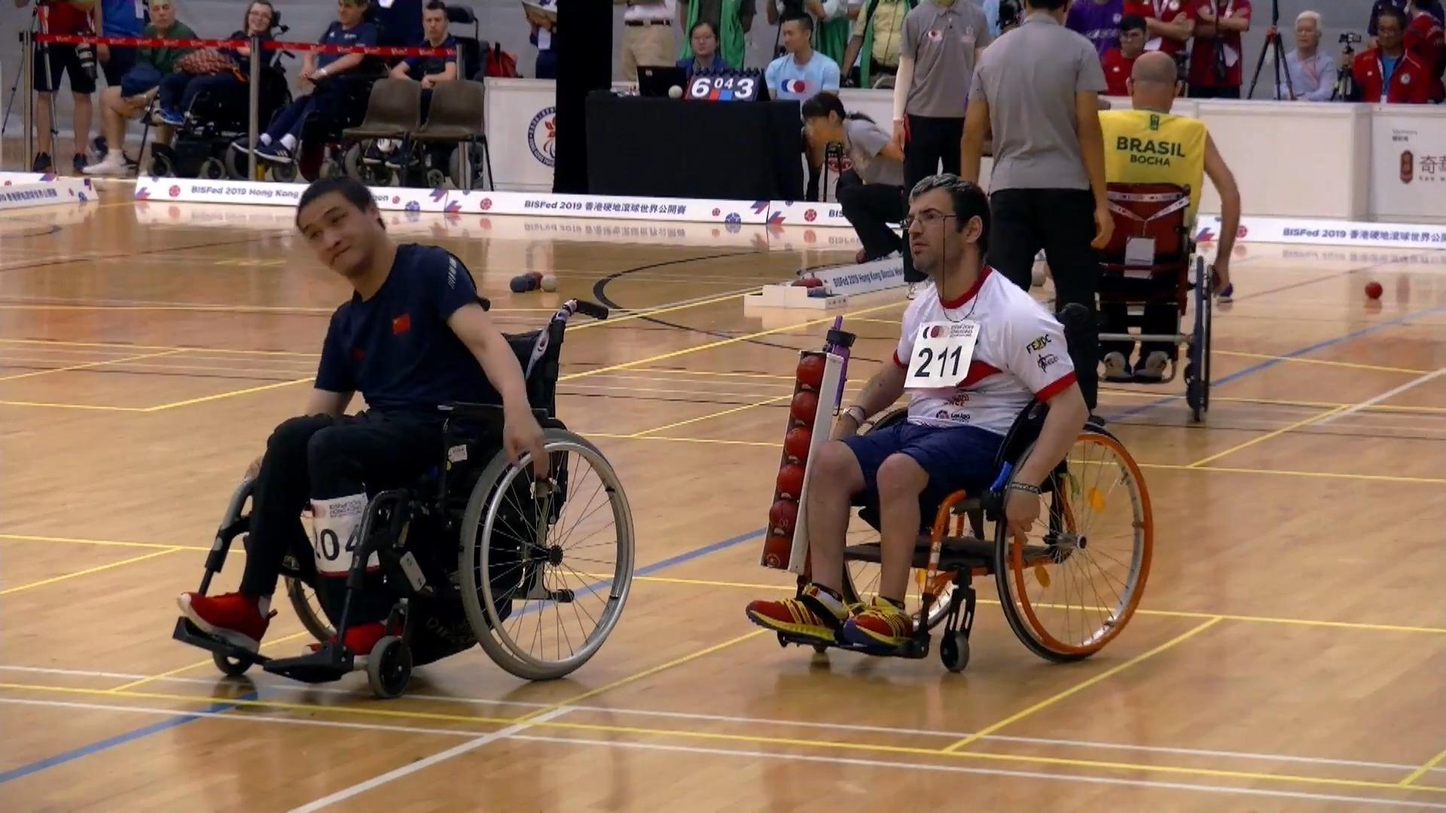blue_ball: (510, 275, 527, 295)
red_ball: (1365, 280, 1383, 300)
white_ball: (541, 273, 558, 292)
